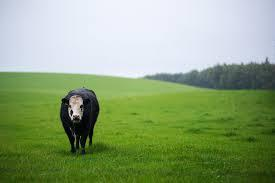cow: (60, 88, 100, 155)
